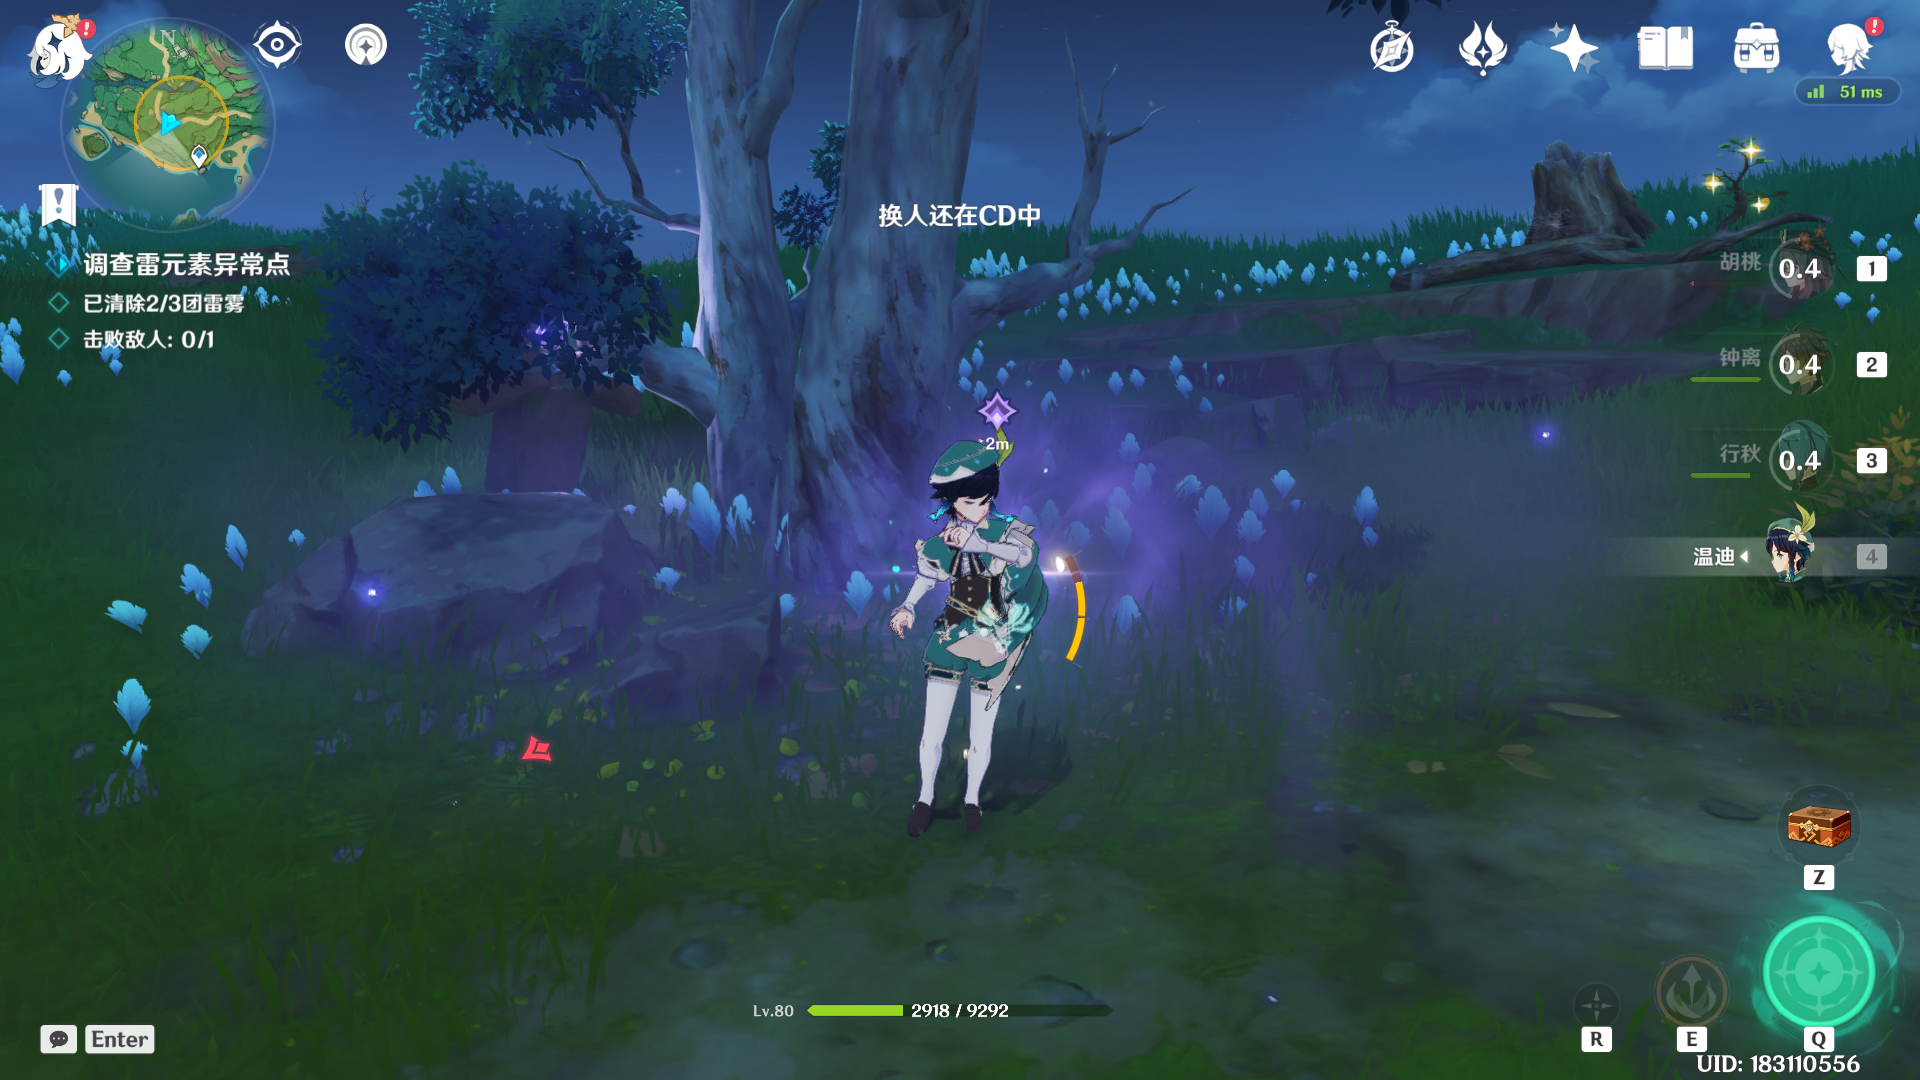character: (807, 402, 1154, 882)
